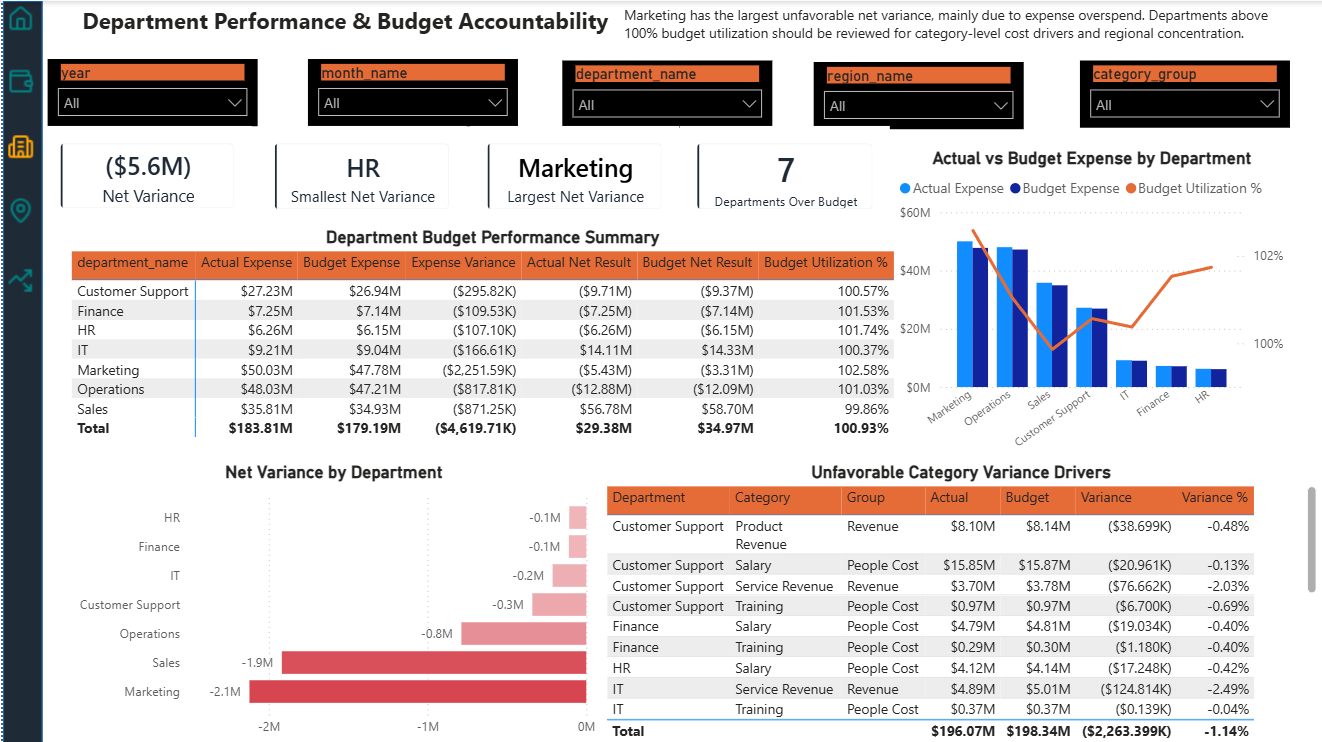

Layout of this report page (visuals, bound fields, positions):
{"tool":"powerbi","page":{"name":"Department Performance","canvas":[1280,720],"ordinal":2},"visuals":[{"type":"shape","box":[0,0,38.3,720],"z":0,"group":"g1"},{"type":"textbox","box":[43.1,0,577.4,47.3],"z":0},{"type":"slicer","fields":{"Values":["dim_date.year"]},"box":[42.7,56.9,203.9,65.2],"z":1000},{"type":"actionButton","box":[0,60,40,34.3],"z":1000,"group":"g1"},{"type":"slicer","fields":{"Values":["dim_date.month_name"]},"box":[296.3,56.9,203.9,65.2],"z":2000},{"type":"actionButton","box":[0,124.3,40,34.3],"z":2000,"group":"g1"},{"type":"slicer","fields":{"Values":["dim_department.department_name"]},"box":[542.8,58.1,203.9,65.2],"z":3000},{"type":"actionButton","box":[0,185.7,40,34.3],"z":3000,"group":"g1"},{"type":"slicer","fields":{"Values":["dim_region.region_name"]},"box":[785.8,59.3,203.9,65.2],"z":4000},{"type":"actionButton","box":[0,254.3,40,34.3],"z":4000,"group":"g1"},{"type":"actionButton","box":[0,0,40,34.3],"z":5000,"group":"g1"},{"type":"slicer","fields":{"Values":["dim_category.category_group"]},"box":[1044.1,58.1,203.9,65.2],"z":5000},{"type":"cardVisual","fields":{"Data":["_Measures.Net Variance"]},"box":[39.1,120.6,202.7,97.2],"z":6000},{"type":"cardVisual","fields":{"Data":["_Measures.Best Department"]},"box":[246,120.6,203.2,98.2],"z":7000},{"type":"cardVisual","fields":{"Data":["_Measures.Worst Department"]},"box":[453.4,120.6,203.2,98.2],"z":8000},{"type":"pivotTable","title":"Department Budget Performance Summary","fields":{"Rows":["dim_department.department_name"],"Values":["_Measures.Actual Expense","_Measures.Budget Expense","_Measures.Expense Variance","_Measures.Actual Net Result","_Measures.Budget Net Result","_Measures.Budget Utilization %"]},"box":[62.5,218.8,826,227.7],"z":9000},{"type":"clusteredBarChart","title":"Net Variance by Department","fields":{"Category":["dim_department.department_name"],"Y":["_Measures.Net Variance"]},"box":[62.5,446.5,518,274.6],"z":10000},{"type":"lineClusteredColumnComboChart","title":"Actual vs Budget Expense by Department","fields":{"Category":["dim_department.department_name"],"Y":["_Measures.Actual Expense","_Measures.Budget Expense"],"Y2":["_Measures.Budget Utilization %"]},"box":[864,142.9,384,303.6],"z":11000},{"type":"tableEx","title":"Unfavorable Category Variance Drivers","fields":{"Values":["dim_department.department_name","dim_category.category_name","dim_category.category_group","_Measures.Total Actual","_Measures.Total Budget","_Measures.Variance","_Measures.Variance %"]},"box":[580.5,446.5,698.8,274.6],"z":12000},{"type":"textbox","box":[596.9,0,651.1,47.3],"z":13000},{"type":"actionButton","box":[0,686.5,40.2,33.5],"z":14000},{"type":"cardVisual","fields":{"Data":["_Measures.Departments Over Budget"]},"box":[656,121,204,98],"z":15000},{"type":"group","id":"g1","title":"Group 1","box":[0,0,40,720],"z":16000}]}

Visuals, with their boxes on the page's 1280x720 design canvas (x1, y1, x2, y2). These are canvas units, not pixel positions in the 1322x742 screenshot, which may show the page scaled, cropped or inside an application window:
shape: 0 0 38 720
textbox: 43 0 620 47
slicer - dim_date.year: 43 57 247 122
actionButton: 0 60 40 94
slicer - dim_date.month_name: 296 57 500 122
actionButton: 0 124 40 159
slicer - dim_department.department_name: 543 58 747 123
actionButton: 0 186 40 220
slicer - dim_region.region_name: 786 59 990 124
actionButton: 0 254 40 289
actionButton: 0 0 40 34
slicer - dim_category.category_group: 1044 58 1248 123
cardVisual - _Measures.Net Variance: 39 121 242 218
cardVisual - _Measures.Best Department: 246 121 449 219
cardVisual - _Measures.Worst Department: 453 121 657 219
"Department Budget Performance Summary" pivotTable: 62 219 888 446
"Net Variance by Department" clusteredBarChart: 62 446 580 721
"Actual vs Budget Expense by Department" lineClusteredColumnComboChart: 864 143 1248 446
"Unfavorable Category Variance Drivers" tableEx: 580 446 1279 721
textbox: 597 0 1248 47
actionButton: 0 686 40 720
cardVisual - _Measures.Departments Over Budget: 656 121 860 219
"Group 1" group: 0 0 40 720
